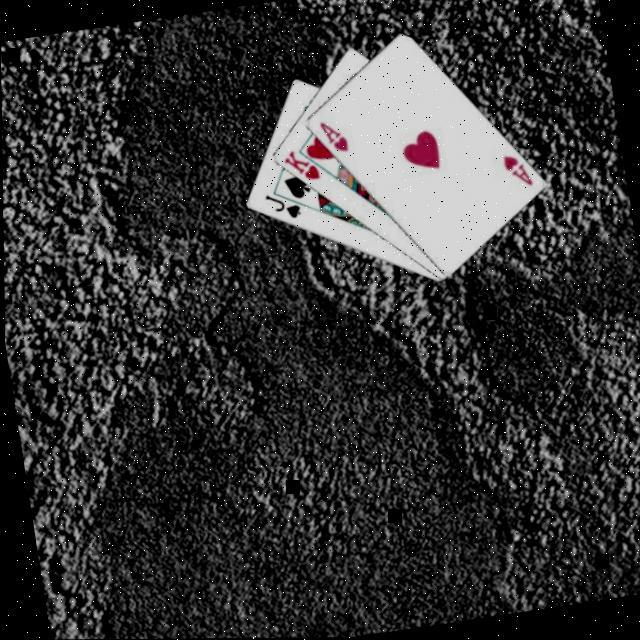AH: (316, 117, 354, 160), (500, 152, 537, 194)
JS: (263, 189, 306, 226)
KH: (281, 146, 325, 189)
